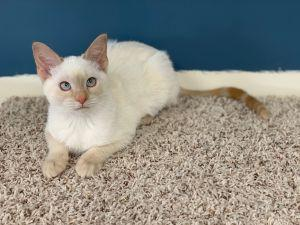siamese: (29, 30, 118, 124)
